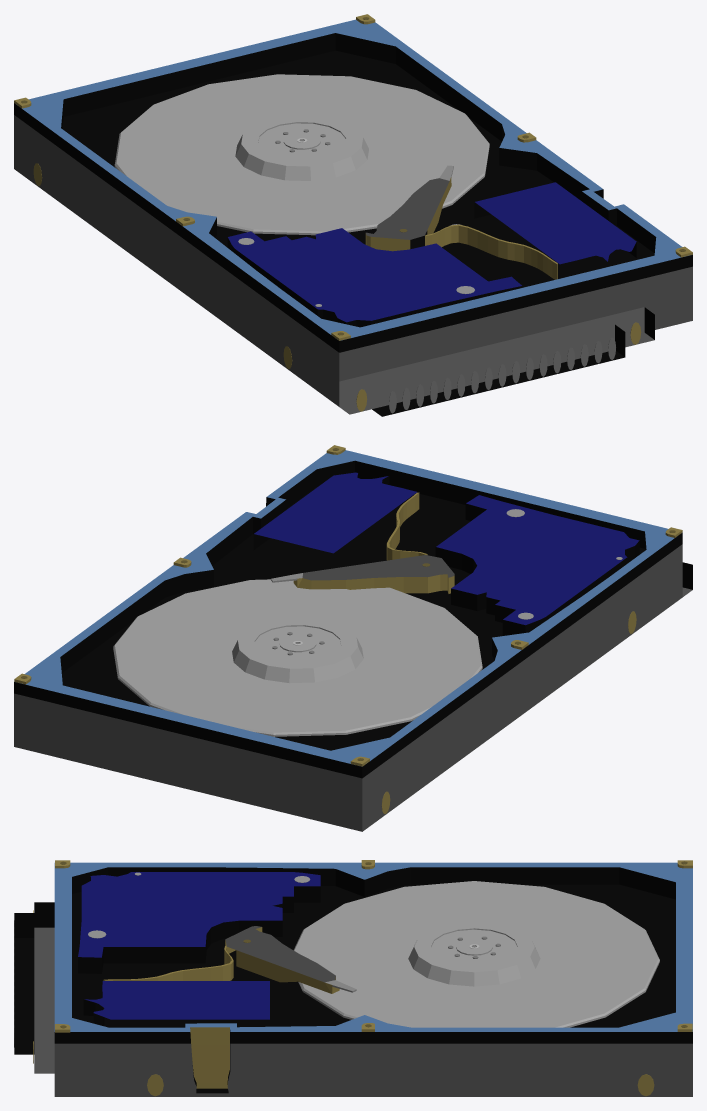
The model's file is Hdd.fbx.
The picture shows the model from 3 angles, top to bottom: view 1: azimuth 30°, elevation 25°; view 2: azimuth 150°, elevation 25°; view 3: azimuth 270°, elevation 25°; orthographic projection.
Visible parts, largest first — view 1: HDD; view 2: HDD; view 3: HDD.
Boxes of the visible parts, bbox=[...] form: HDD: bbox=[14, 14, 692, 416]; HDD: bbox=[14, 445, 692, 831]; HDD: bbox=[14, 860, 692, 1096].
Bounding box in the file's own units: 264 × 49.12 × 448.
